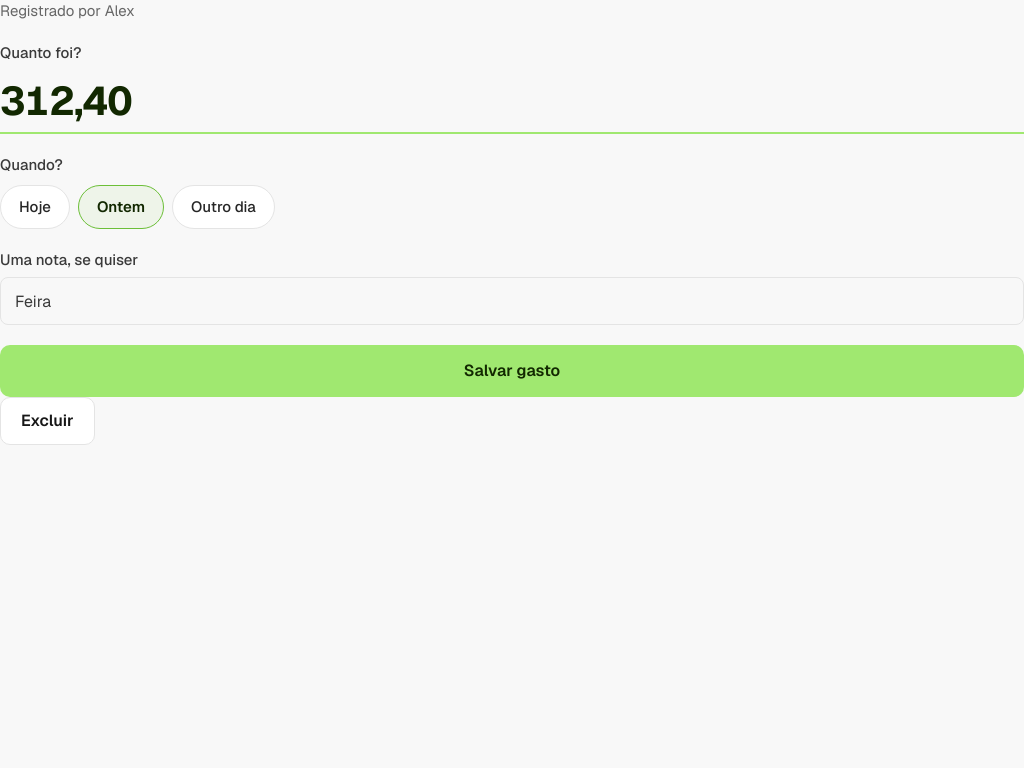
gasto: Excluir pede confirmação com o texto aprovado
This screenshot has width=1024, height=768.
Click the button "Excluir" at (47, 421), box [0,397,95,445]
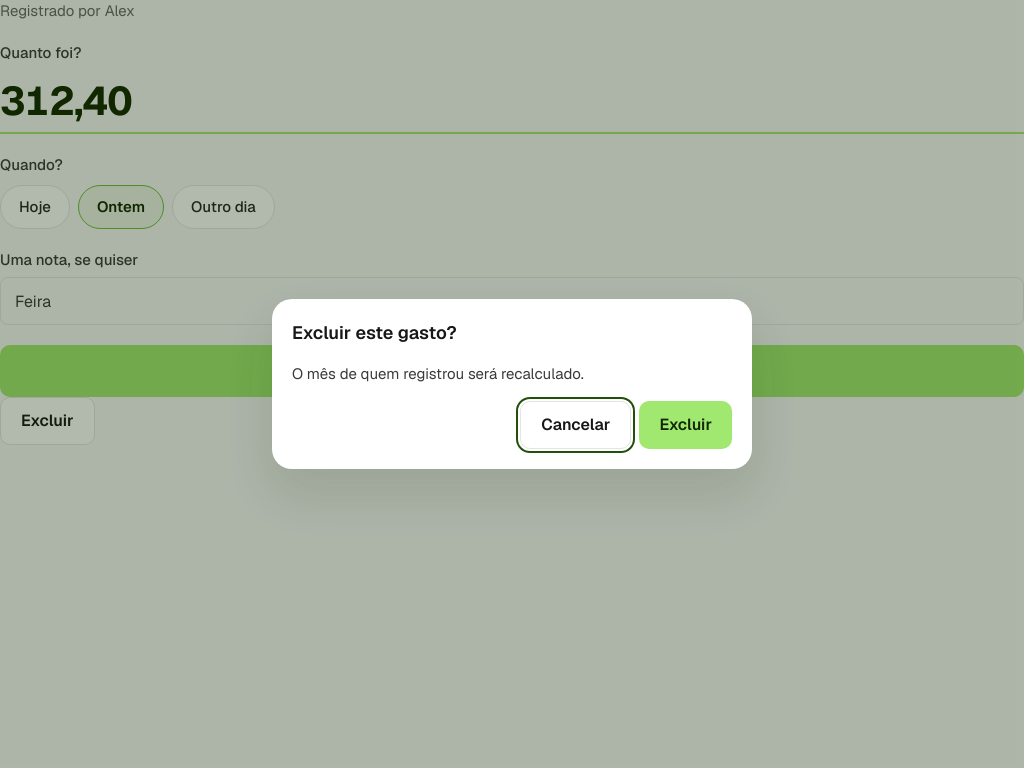
Expected: the text "O mês de quem registrou será recalculado." is shown, [292,364,584,383]
Expected: the button "Excluir" is shown, [639,401,732,449]
Expected: the button "Cancelar" is shown, [520,401,631,449]
